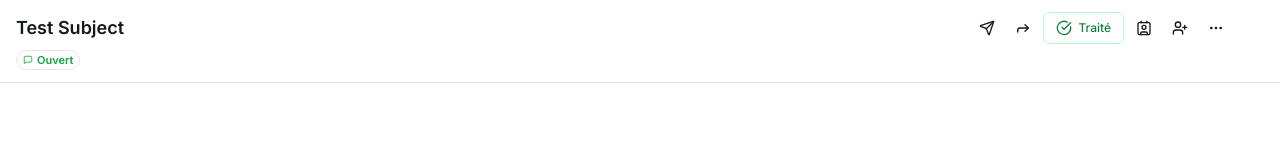
Test: ConversationHeader › enters editing mode on subject click
Click the heading "Test Subject" at (79, 28), box 16,14 -> 142,42
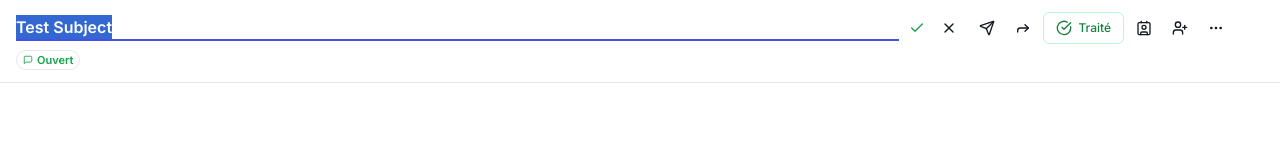
Result: the field showing "Test Subject" is shown at 16,15 -> 899,41
